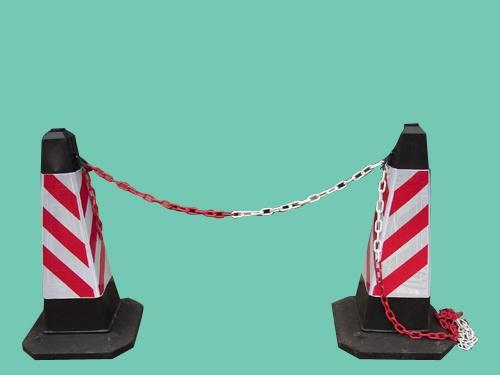cone_barrel: (330, 122, 446, 353), (18, 129, 138, 352)
